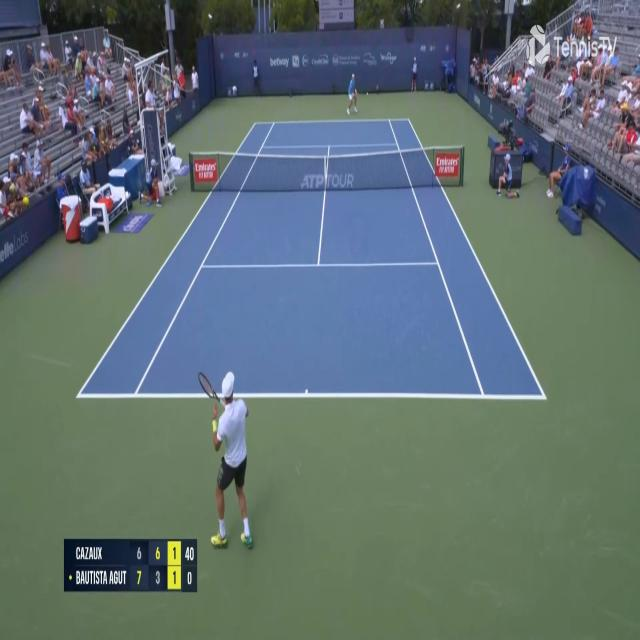tennis-player: (200, 362, 258, 555), (346, 72, 358, 116)
